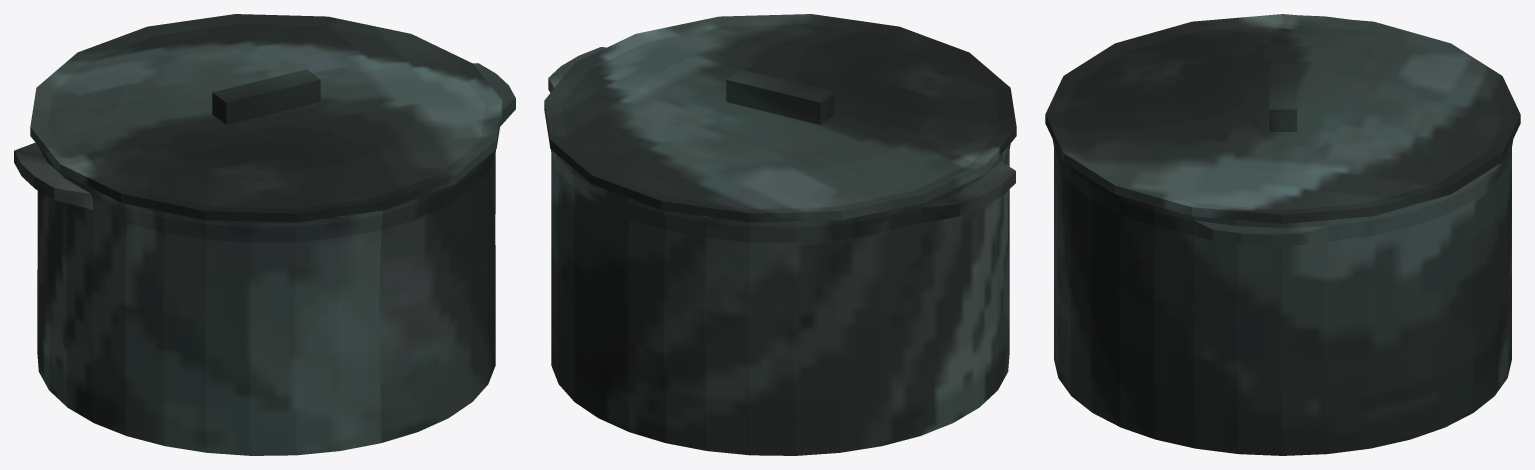
The model's file is SM_POT2.fbx.
3 views of the same model, side by side, from view 1: azimuth 30°, elevation 25°; view 2: azimuth 150°, elevation 25°; view 3: azimuth 270°, elevation 25° (orthographic).
Parts seen in each view (by area): view 1: SM_pot.003; view 2: SM_pot.003; view 3: SM_pot.003.
Part boxes in pixels (x1,y1,x2,y2): SM_pot.003: (14,14,515,455); SM_pot.003: (544,14,1016,455); SM_pot.003: (1045,14,1520,455).
Size of the model in its own units: 34.38 by 19.88 by 31.43.
